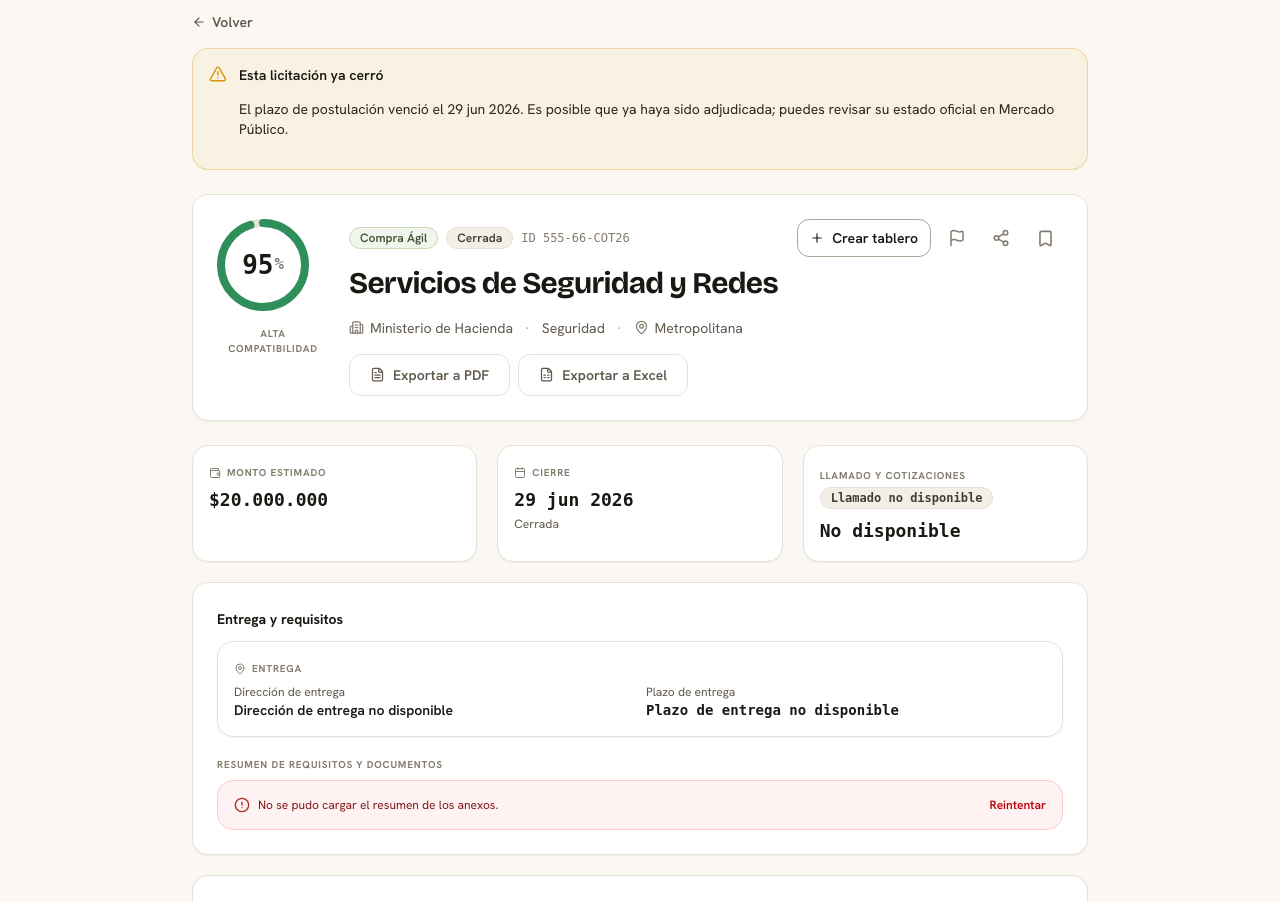
Scenario: TenderDetailView (CA-5: Rollback y notificación en error de red) › aplica rollback al estado previo y muestra alerta ante fallo al guardar licitación
expect the heading "Servicios de Seguridad y Redes" is shown: met, box [349,265,778,301]
Click the button named "Guardar licitación".
click(1045, 238)  # box [1027,220,1063,256]
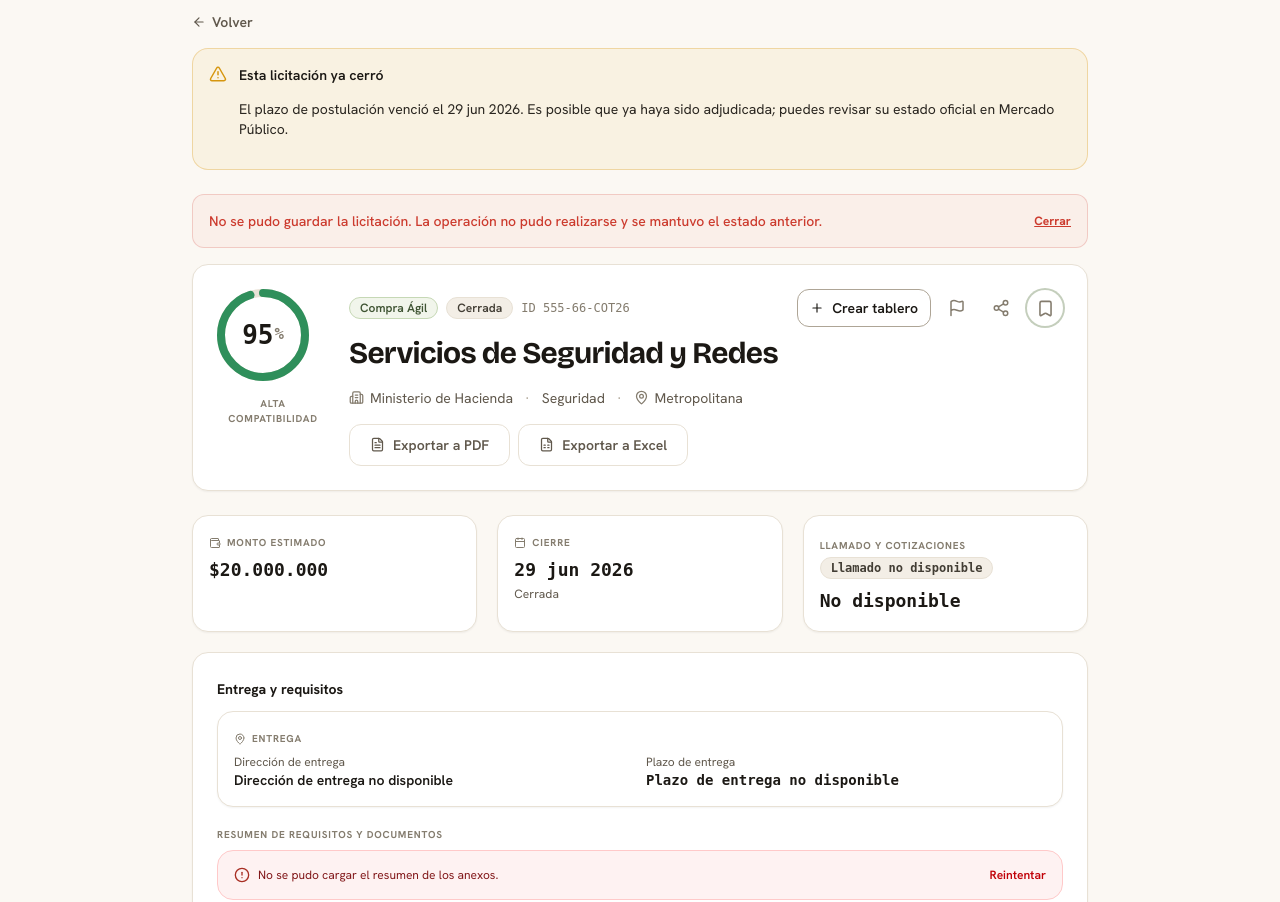
expect the button named "Guardar licitación" is shown: met, box [1027,290,1063,326]
expect the text "No se pudo guardar la licitación. La operación no pudo realizarse y se mantuvo el estado anterior." is shown: met, box [209,212,822,230]
